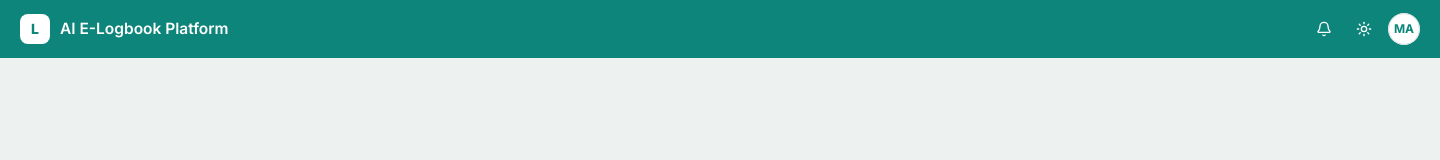
Test case: Header › names the signed-in user and their roles
What coordinates should you click on to do the following:
click the button with aria-label "Account menu"
I would click on:
 (1404, 29)
Its box is [1388,13,1420,45].
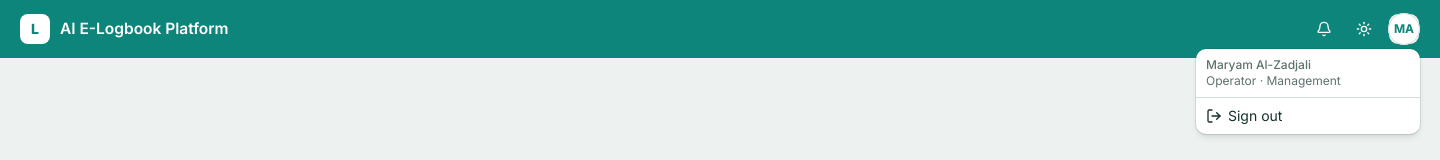
Result: the text "Maryam Al-Zadjali" is shown at [1206,57,1311,72]
Result: the text "Operator · Management" is shown at [1206,73,1341,88]
